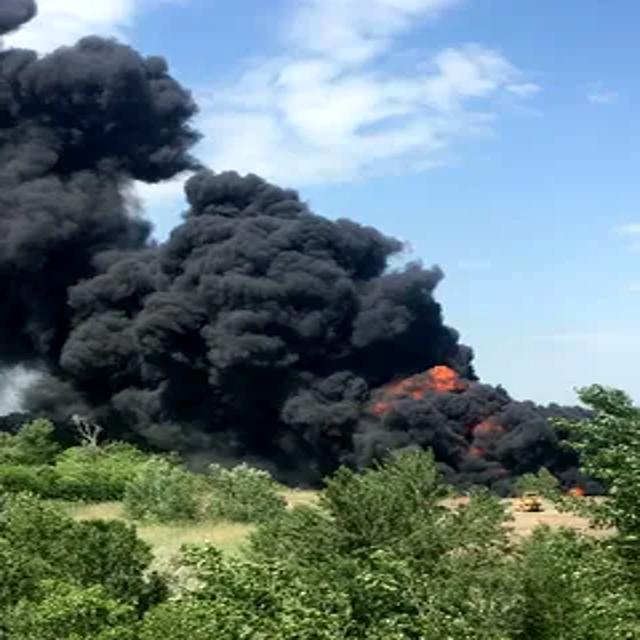no_helmet: (0, 0, 625, 495)
